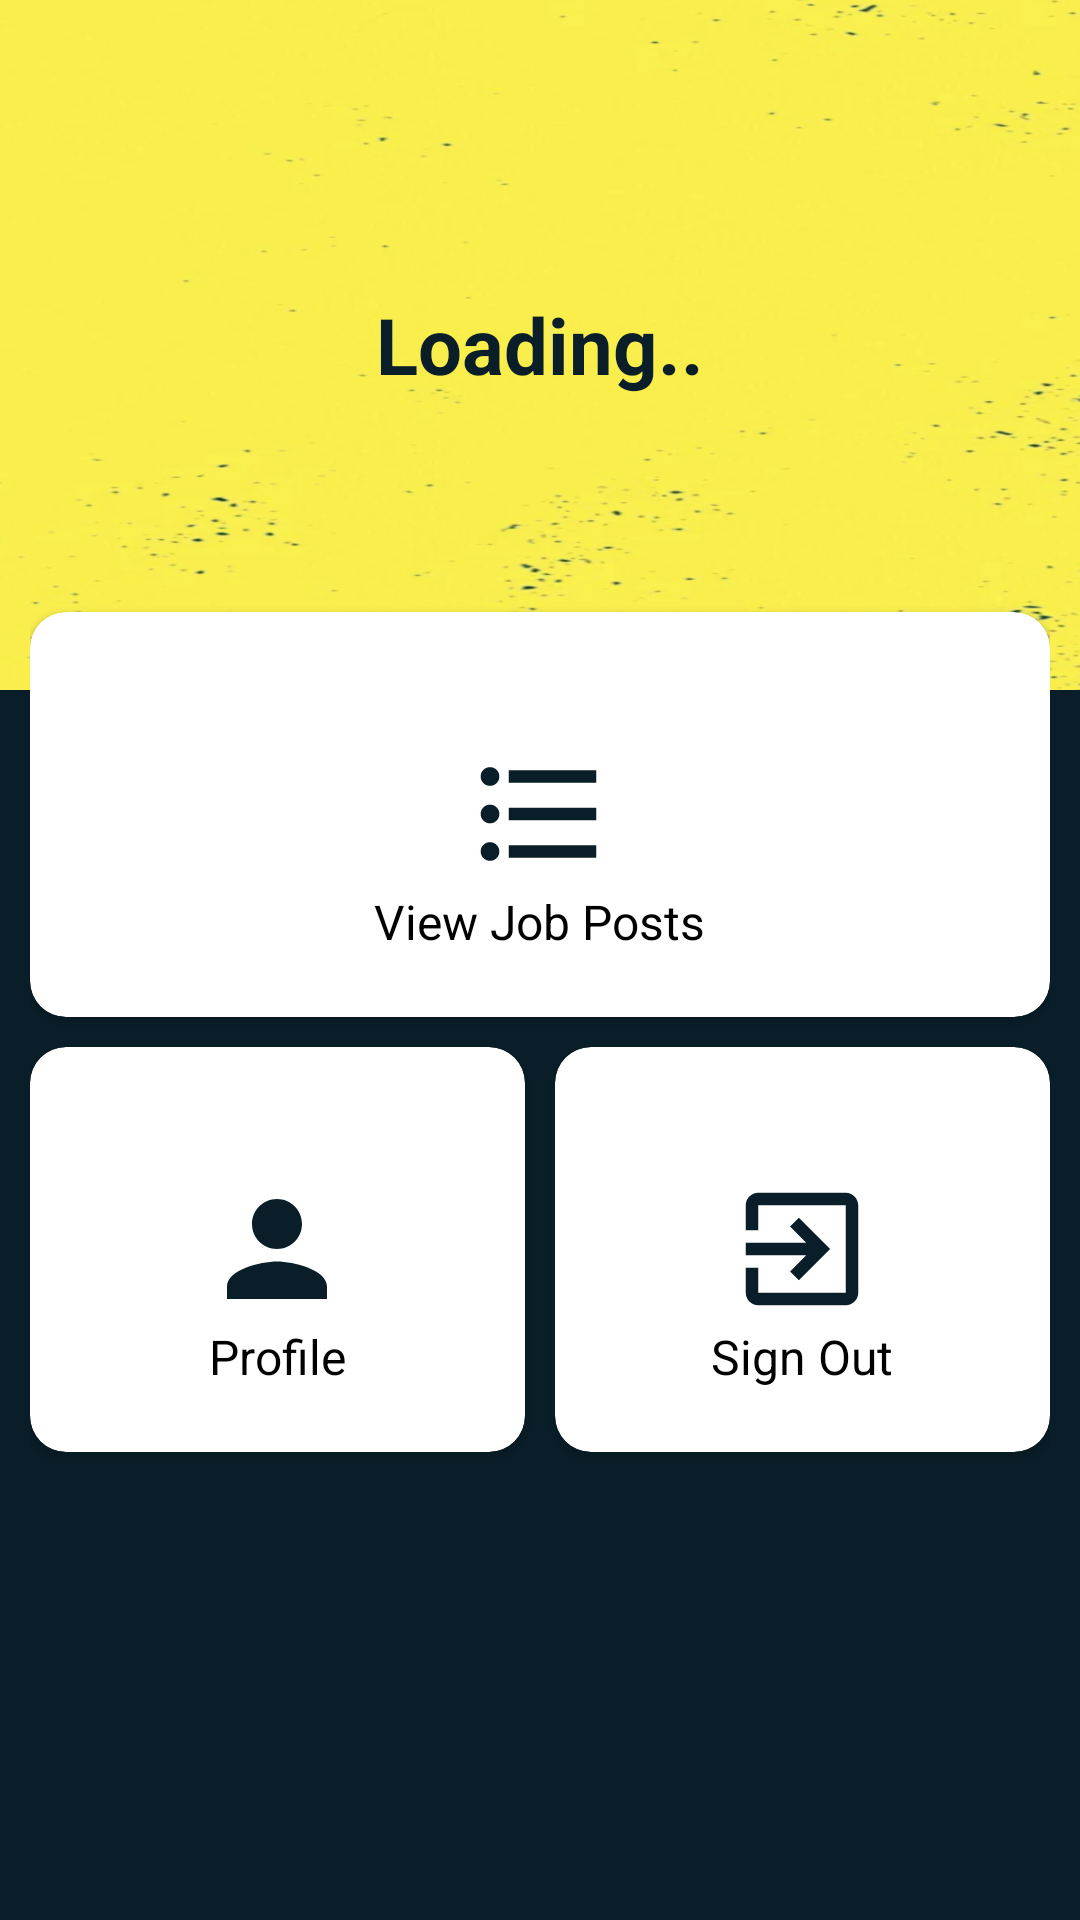

Point at icon controls on the screen. Image size 1080×1920, points as (x=x, y=y).
list: (x=538, y=814)
person: (x=277, y=1249)
